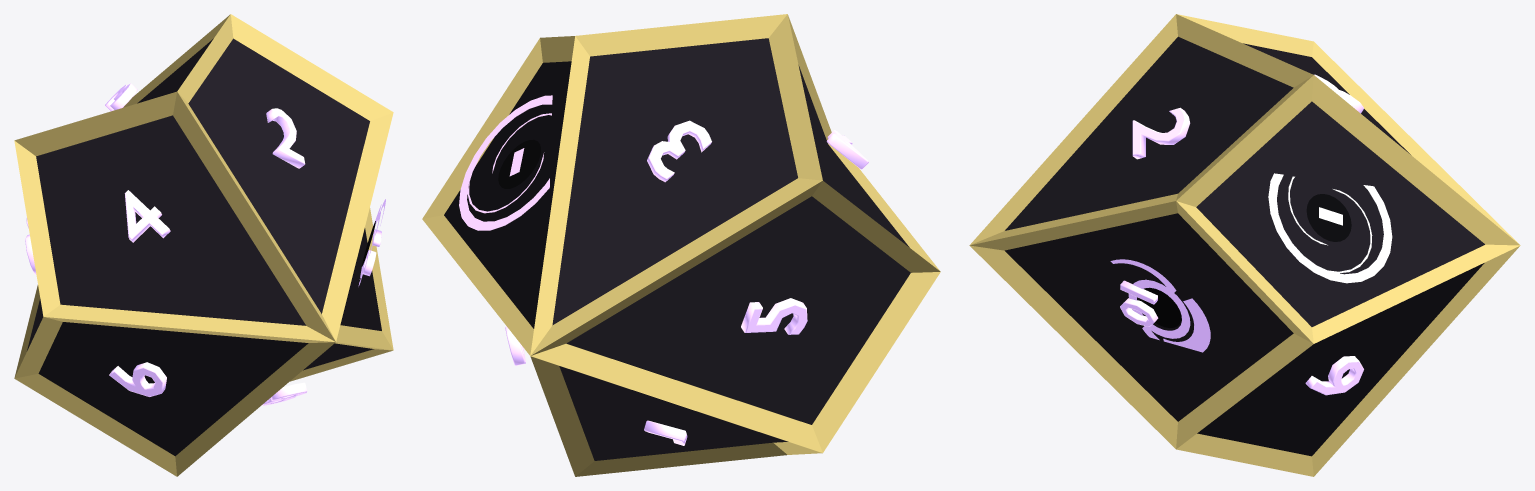
File: d10_black_hole_gold.glb
3 views of the same model, side by side, from view 1: azimuth 30°, elevation 25°; view 2: azimuth 150°, elevation 25°; view 3: azimuth 270°, elevation 25° (orthographic). The views are drawn at different scales.
Parts seen in each view (by area): view 1: D10_BlackHole_Gold; view 2: D10_BlackHole_Gold; view 3: D10_BlackHole_Gold.
Part boxes in pixels (x1,y1,x2,y2): D10_BlackHole_Gold: (14,14,393,476); D10_BlackHole_Gold: (422,14,940,476); D10_BlackHole_Gold: (969,14,1520,476).
Size of the model in its own units: 4.4 by 4.18 by 5.2.
